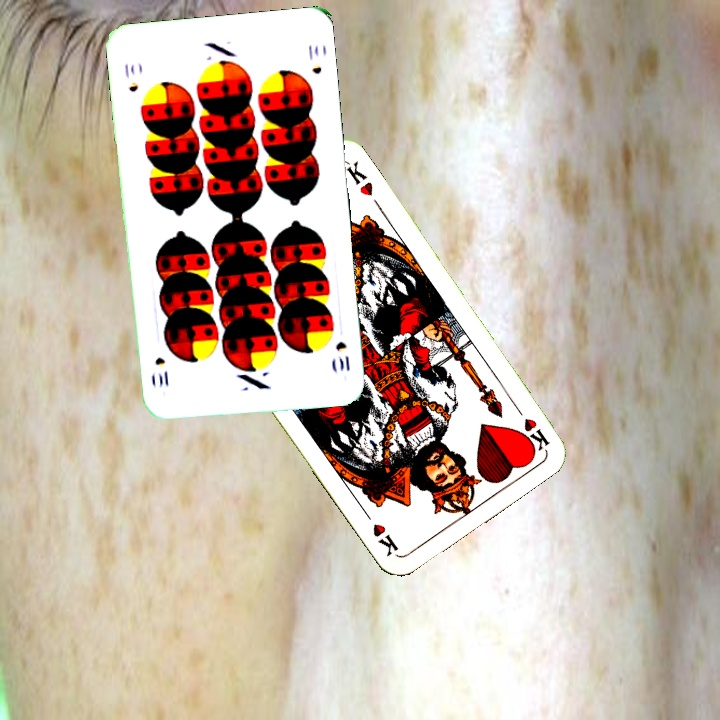HK: (508, 398, 552, 452)
S10: (331, 337, 352, 374), (120, 60, 141, 95)
